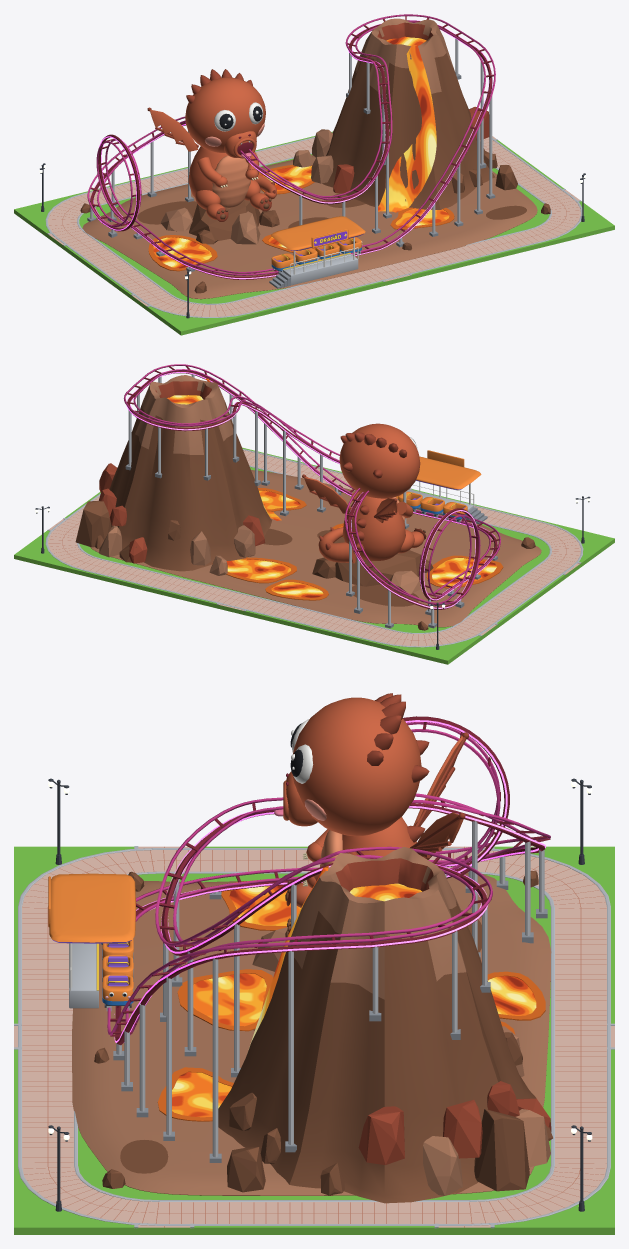
Rendered from montanha_russa_dragao.glb.
3 views of the same model, one above another, from view 1: azimuth 30°, elevation 25°; view 2: azimuth 150°, elevation 25°; view 3: azimuth 270°, elevation 25° (orthographic). The views are drawn at different scales.
Visible parts, largest first — view 1: montanha_russa_dragao; view 2: montanha_russa_dragao; view 3: montanha_russa_dragao, carrinho_1.
Boxes of the visible parts, x1,y1,x2,y2 form: montanha_russa_dragao: (14,14,614,335); montanha_russa_dragao: (14,364,614,664); montanha_russa_dragao: (14,693,614,1234); carrinho_1: (102,974,133,1011).
Bounding box in the file's own units: 45 × 15.14 × 30.
5 materials, 3 textured.
